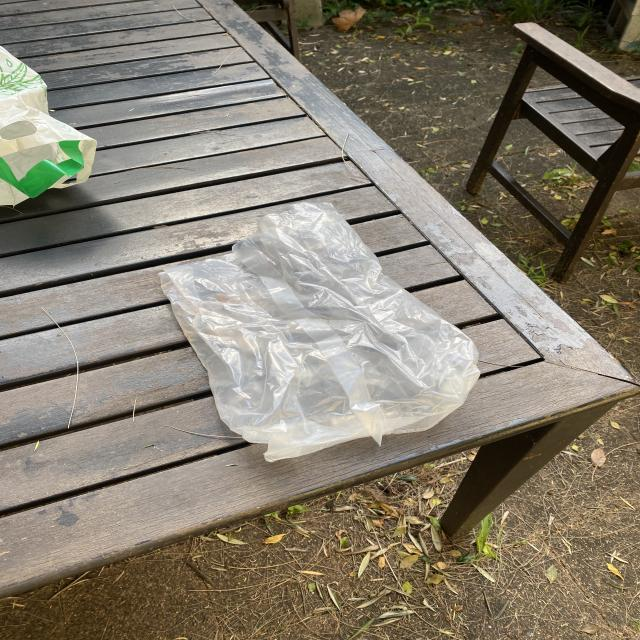bag: (0, 41, 99, 217)
cloth: (154, 195, 484, 465)
